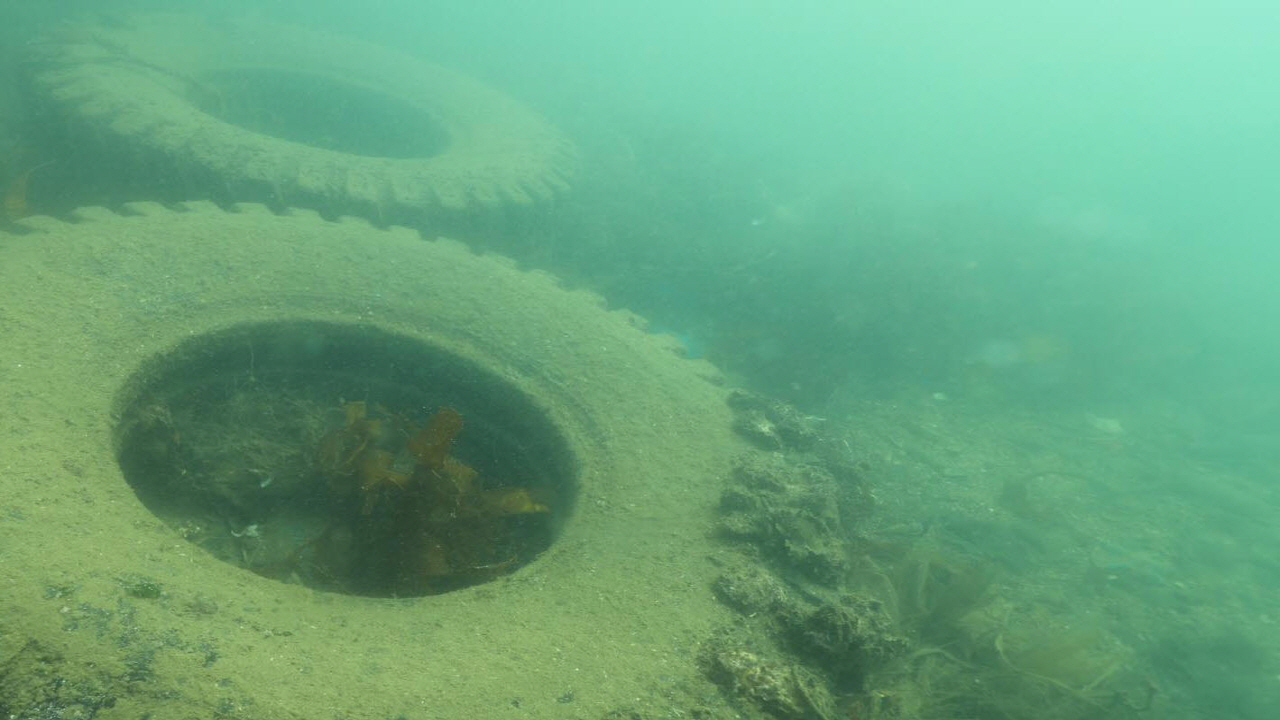tire: (0, 201, 744, 720), (20, 12, 588, 288)
